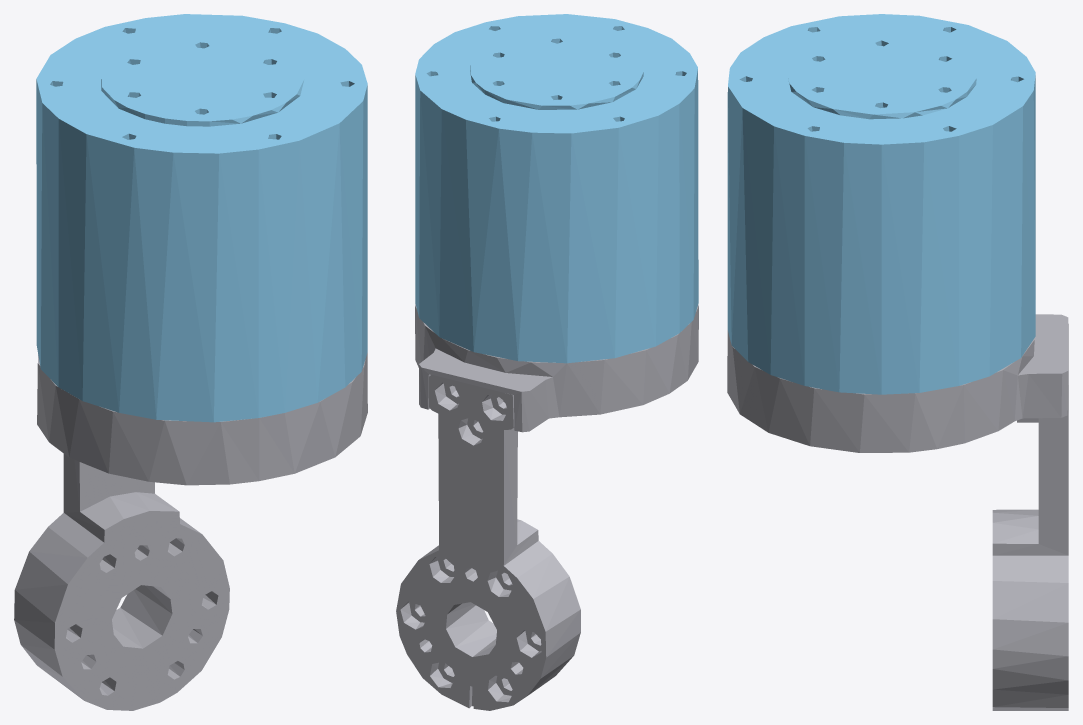
3 renders of one model, left to right at view 1: azimuth 30°, elevation 25°; view 2: azimuth 150°, elevation 25°; view 3: azimuth 270°, elevation 25°, orthographic. The views are drawn at different scales.
Parts seen in each view (by area): view 1: link7; view 2: link7; view 3: link7.
Part boxes in pixels (x1,y1,x2,y2): link7: (14,14,367,710); link7: (396,14,698,710); link7: (727,14,1068,710).
Bounding box in the file's own units: 0.0571 × 0.063 × 0.1281.
